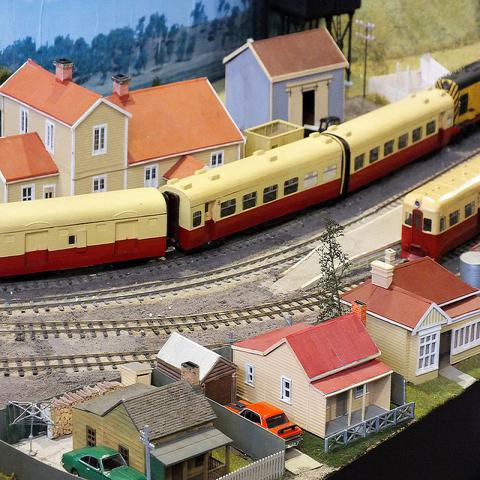car: (225, 400, 303, 448), (63, 448, 141, 476)
truck: (302, 111, 342, 133)
